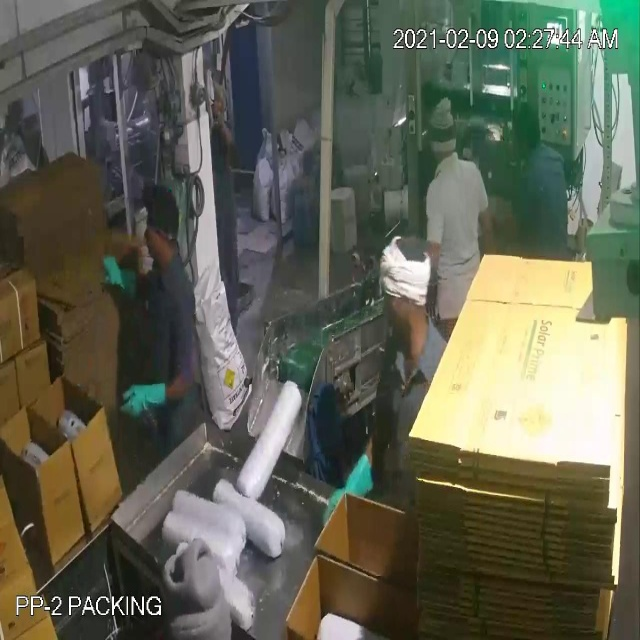Guantes: (322, 457, 375, 531), (95, 244, 146, 309), (116, 371, 180, 421)
Sin_guantes: (218, 109, 235, 170)
